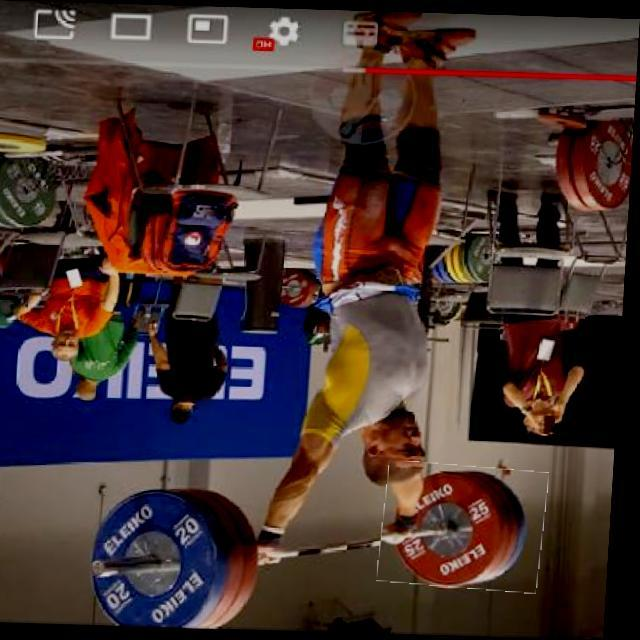barbell: (385, 460, 554, 589)
